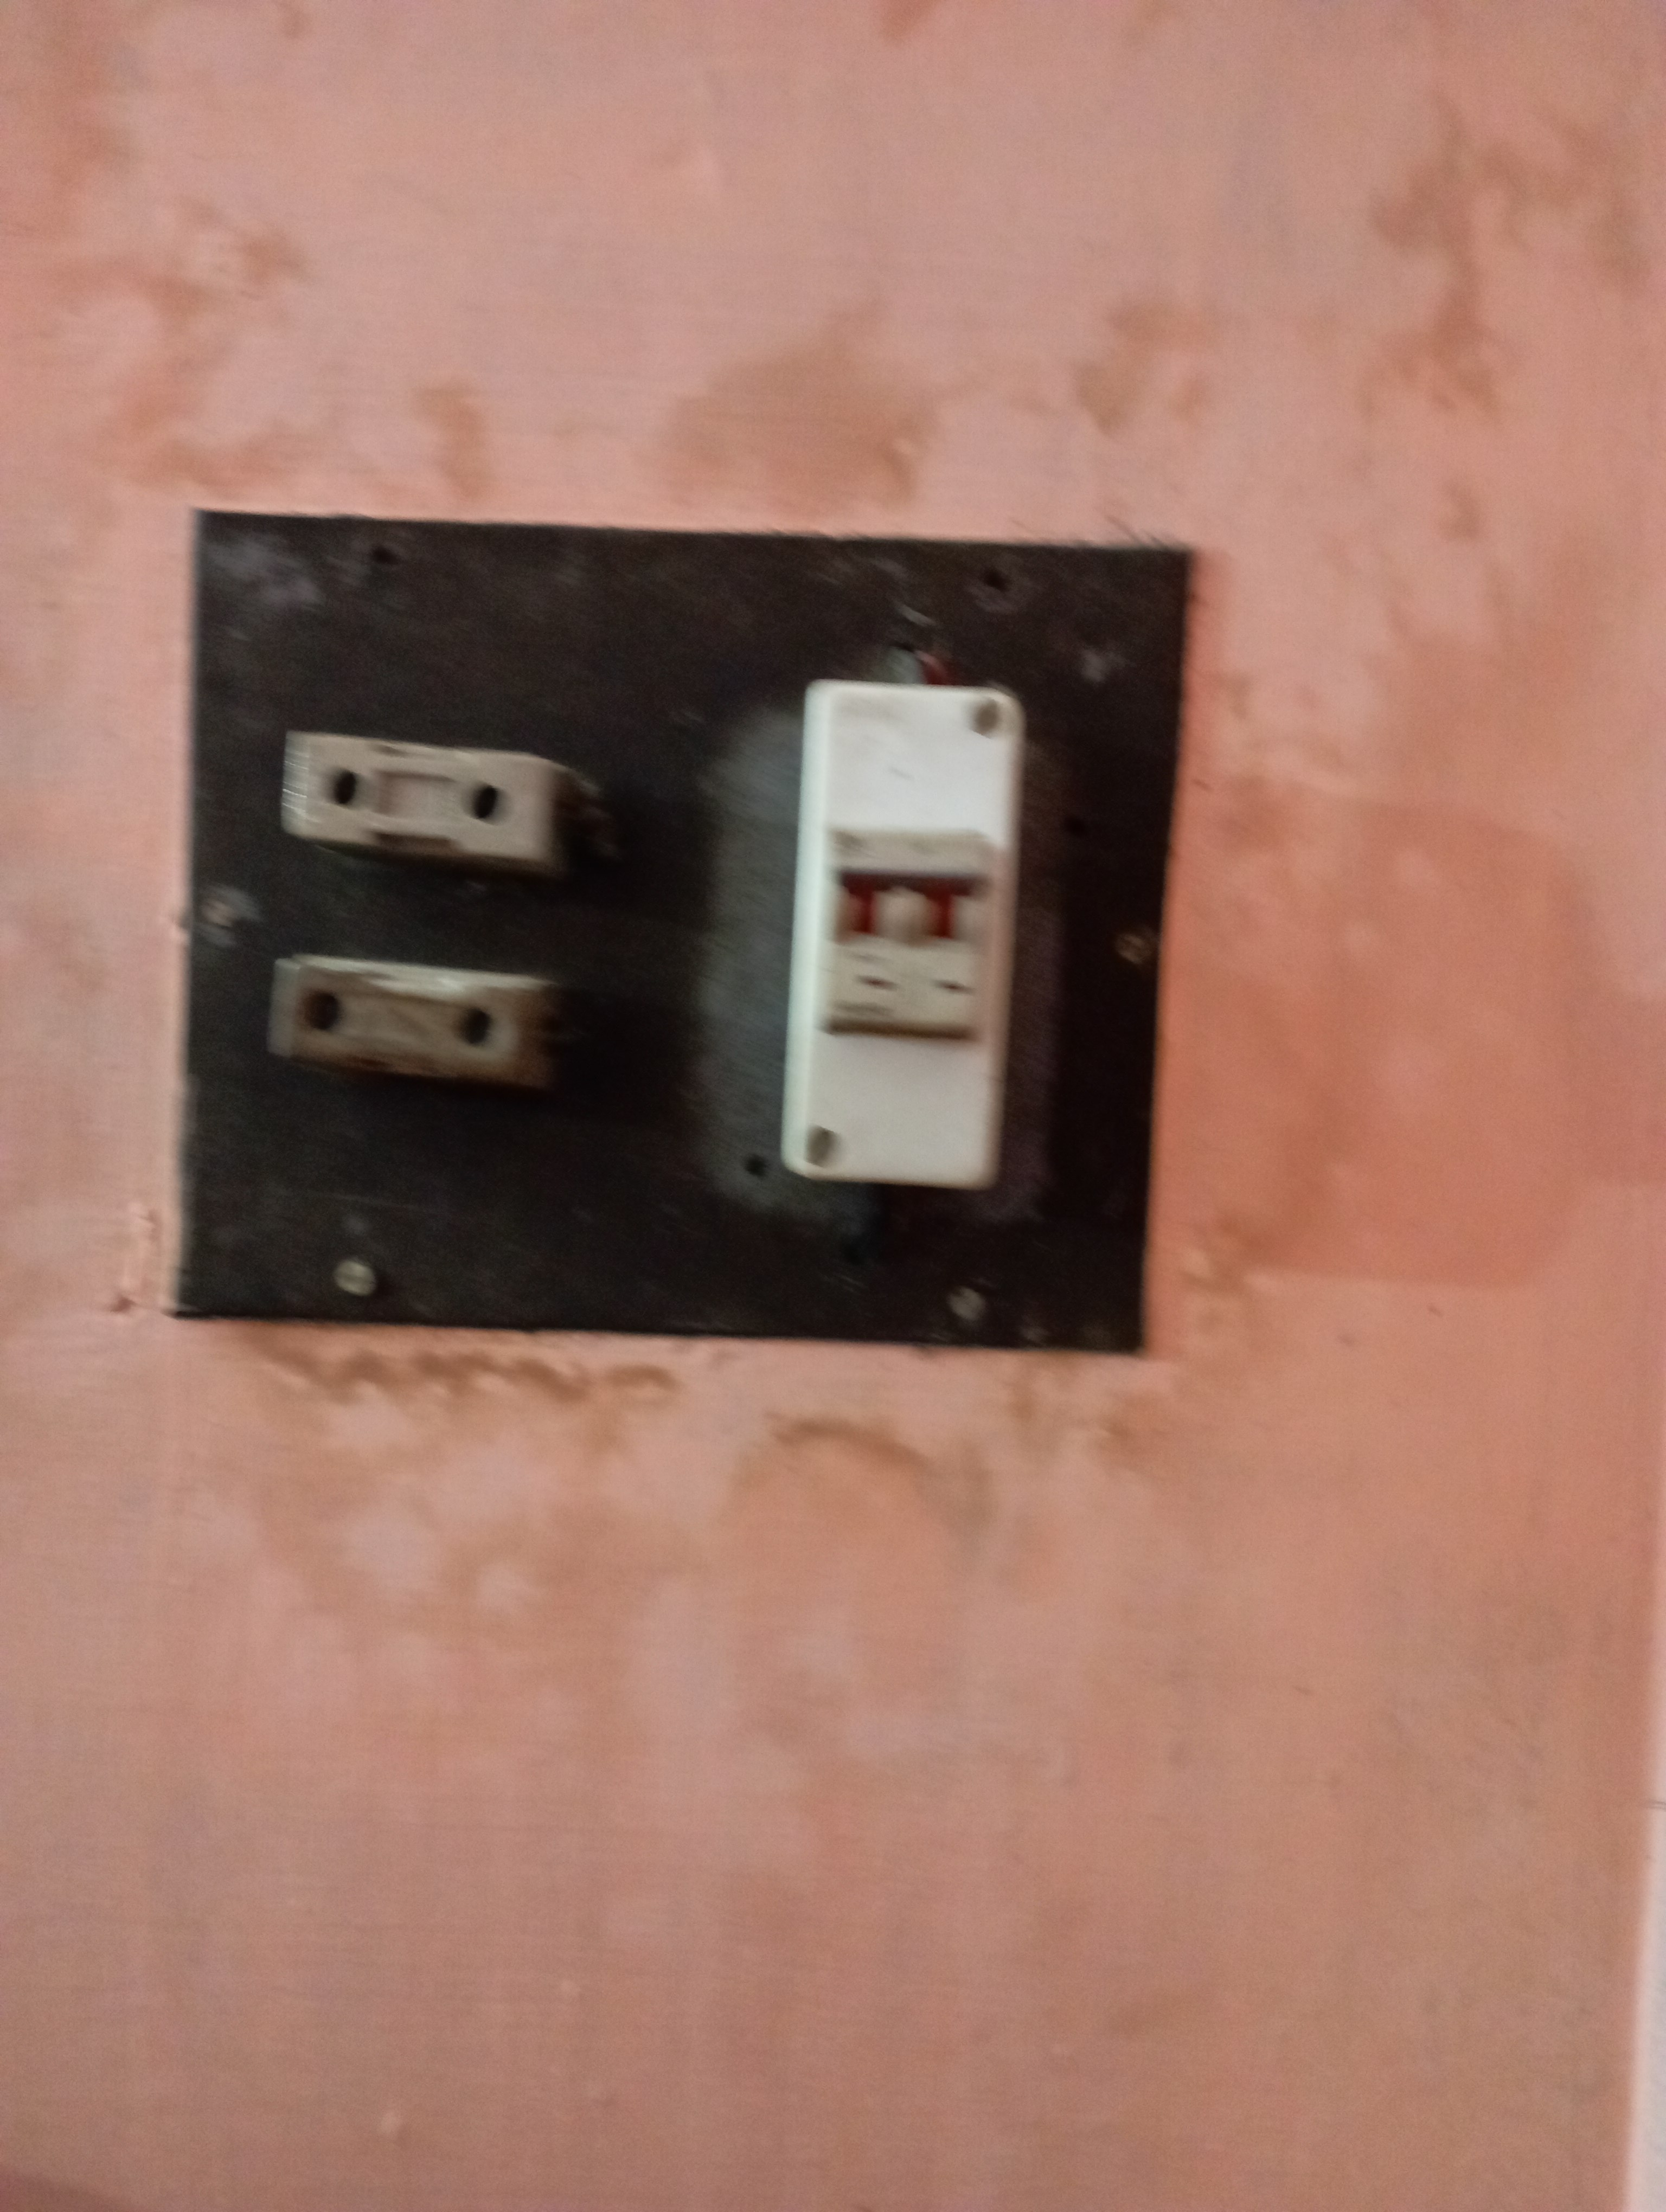ciruit_breaker: (754, 684, 1054, 1189)
fuse: (243, 713, 578, 887), (269, 930, 595, 1093)
